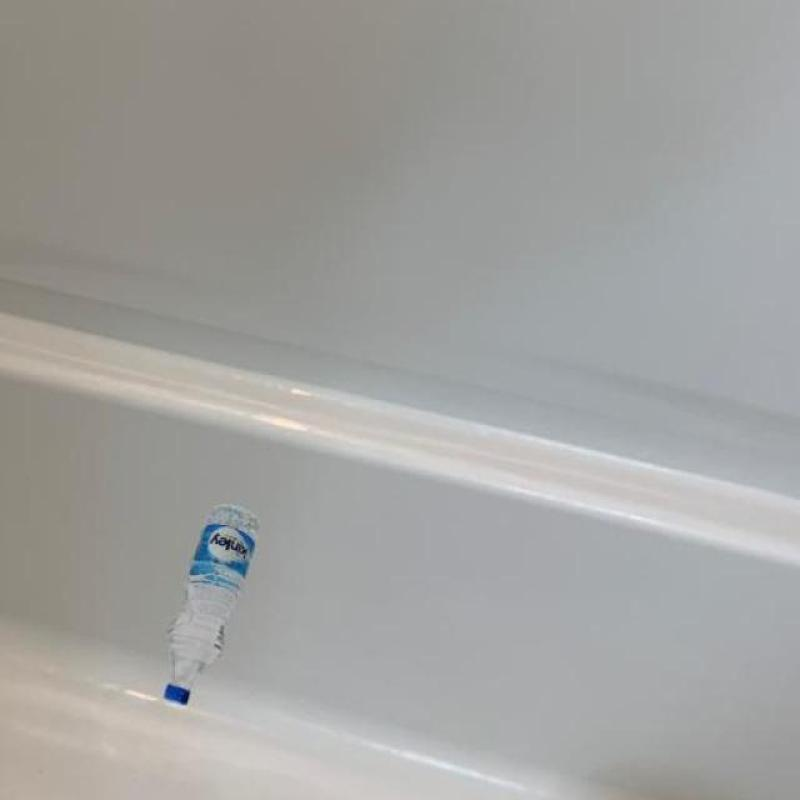botella: (162, 501, 262, 705)
